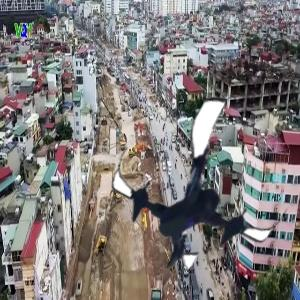drone: (109, 95, 295, 281)
